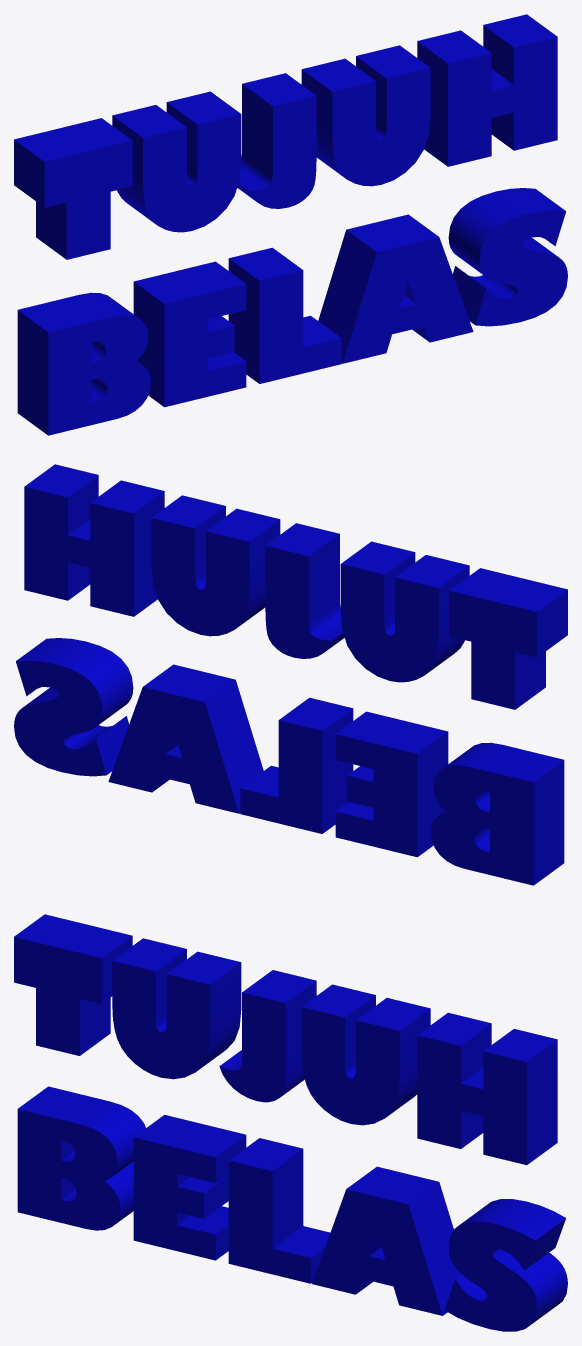
The model's file is TUJUH BELAS.fbx.
The picture shows the model from 3 angles, top to bottom: view 1: azimuth 30°, elevation 25°; view 2: azimuth 150°, elevation 25°; view 3: azimuth 330°, elevation 25°; orthographic projection.
Visible parts, largest first — view 1: node_id155 (×2); view 2: node_id155 (×2); view 3: node_id155 (×2).
Boxes of the visible parts, left/top/right/bottom form: node_id155 (×2): left=14, top=14, right=567, bottom=435; node_id155 (×2): left=14, top=464, right=567, bottom=885; node_id155 (×2): left=14, top=914, right=567, bottom=1331.
Bounding box in the file's own units: 0.1471 × 0.0742 × 0.015.
